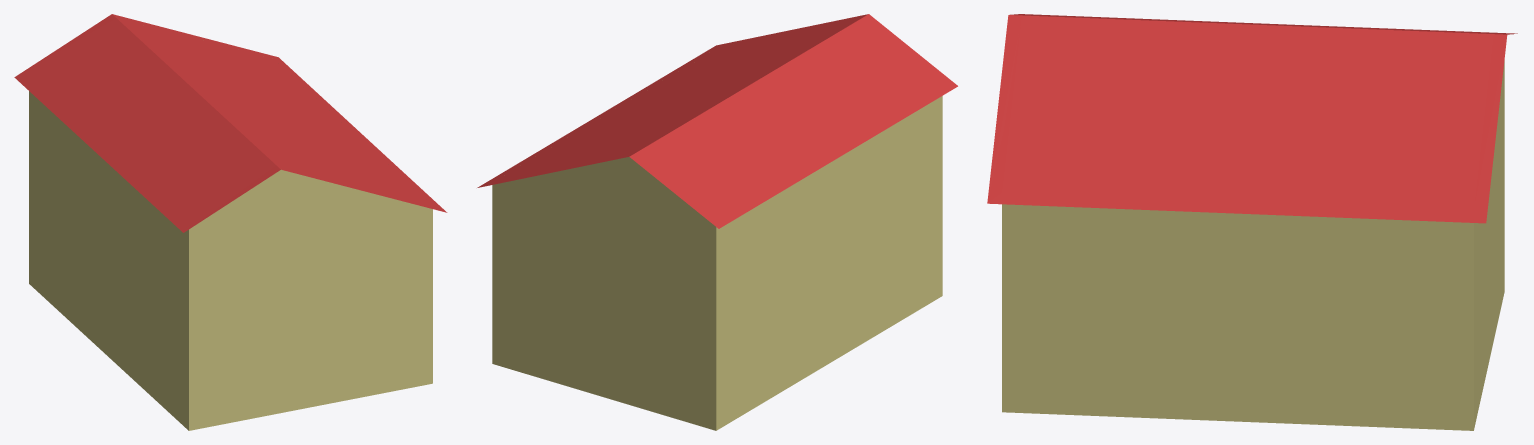
3 views of the same model, side by side, from view 1: azimuth 30°, elevation 25°; view 2: azimuth 150°, elevation 25°; view 3: azimuth 270°, elevation 25° (orthographic). The views are drawn at different scales.
Bounding box in the file's own units: 7.38 × 9.71 × 6.18.
